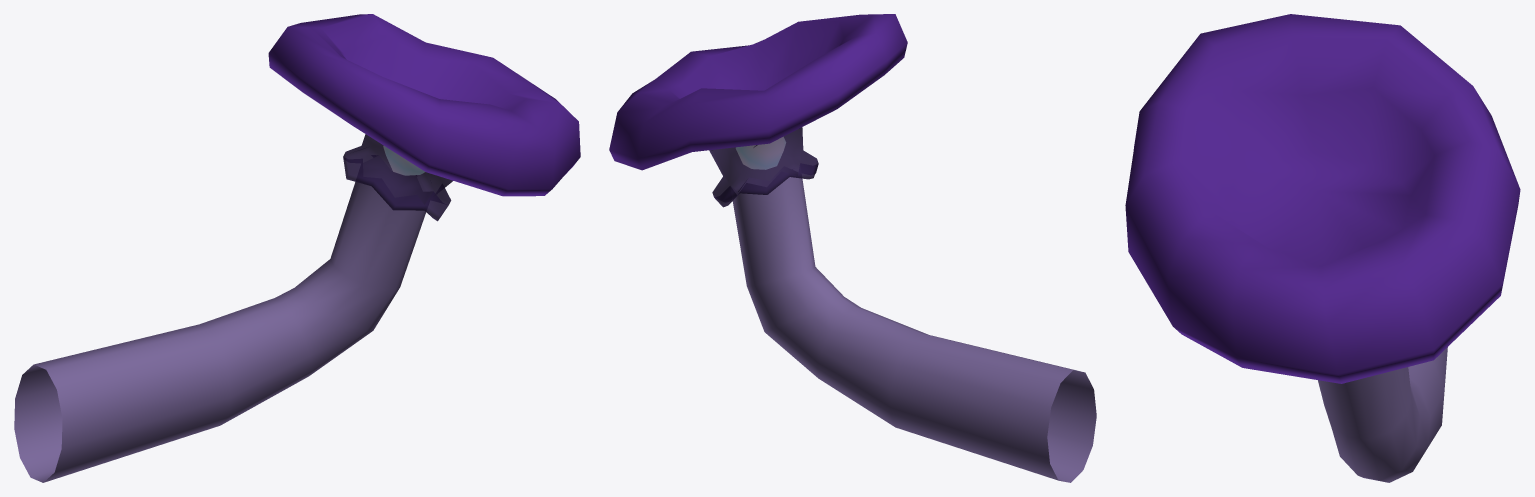
File: Mushroom_Wall_03_merged_UV.fbx
The picture shows the model from 3 angles, left to right: view 1: azimuth 30°, elevation 25°; view 2: azimuth 150°, elevation 25°; view 3: azimuth 270°, elevation 25°; orthographic projection. The views are drawn at different scales.
Parts seen in each view (by area): view 1: Mushroom_Wall_03_merged_UV; view 2: Mushroom_Wall_03_merged_UV; view 3: Mushroom_Wall_03_merged_UV.
Boxes of the visible parts, left/top/right/bottom form: Mushroom_Wall_03_merged_UV: left=14, top=14, right=580, bottom=482; Mushroom_Wall_03_merged_UV: left=609, top=14, right=1096, bottom=482; Mushroom_Wall_03_merged_UV: left=1125, top=14, right=1520, bottom=482.
Size of the model in its own units: 196 by 102 by 146.
